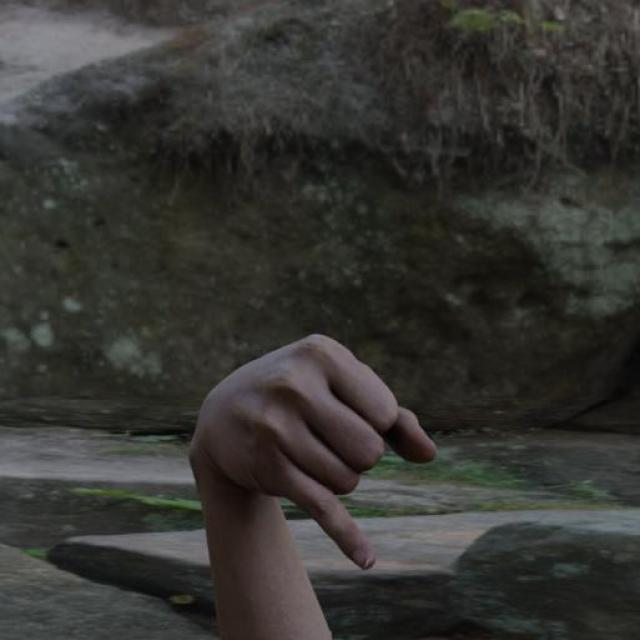J: (182, 329, 438, 573)
